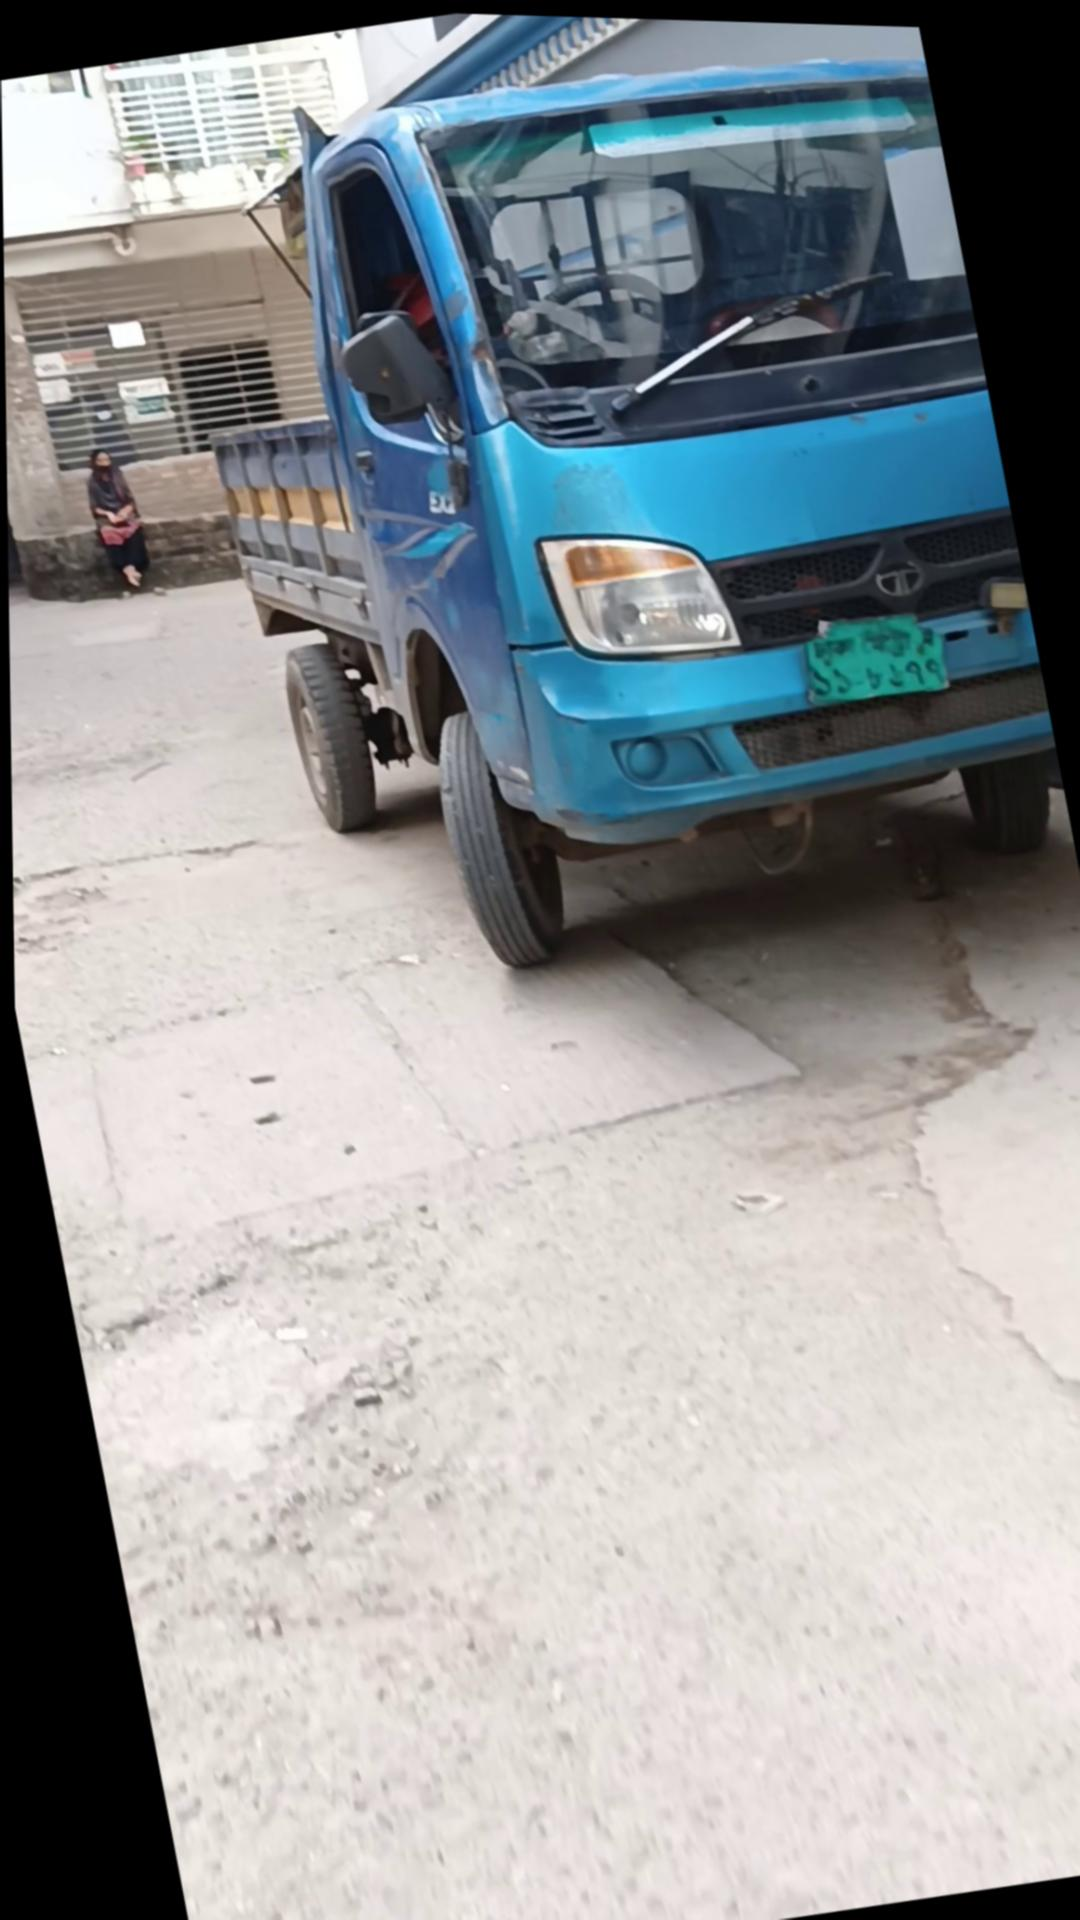Broken-road: (5, 400, 1080, 1920)
Crosswalk: (57, 873, 815, 1267), (893, 1054, 1080, 1513)
Muddy road: (76, 442, 156, 601)
Traffic-sign: (146, 4, 1080, 1017)
